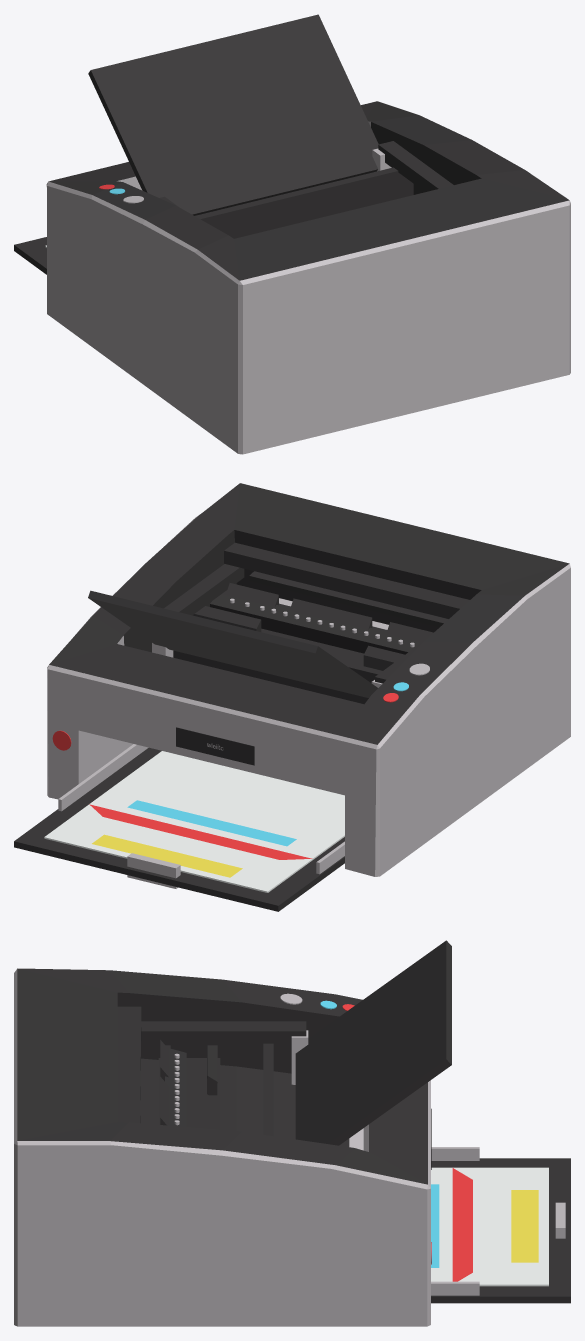
File: printer.glb
3 views of the same model, one above another, from view 1: azimuth 30°, elevation 25°; view 2: azimuth 150°, elevation 25°; view 3: azimuth 270°, elevation 25° (orthographic). The views are drawn at different scales.
Visible parts, largest first — view 1: Cylinder022, Box026; view 2: Cylinder022, Box026; view 3: Cylinder022, Box026.
Boxes of the visible parts, x1,y1,x2,y2 form: Cylinder022: [45, 121, 570, 454]; Box026: [14, 14, 569, 280]; Cylinder022: [44, 514, 570, 892]; Box026: [14, 483, 569, 911]; Cylinder022: [14, 969, 565, 1326]; Box026: [17, 940, 570, 1303].
Size of the model in its own units: 31516 by 20303 by 42681.
Materials: 2 (2 with a texture image).
